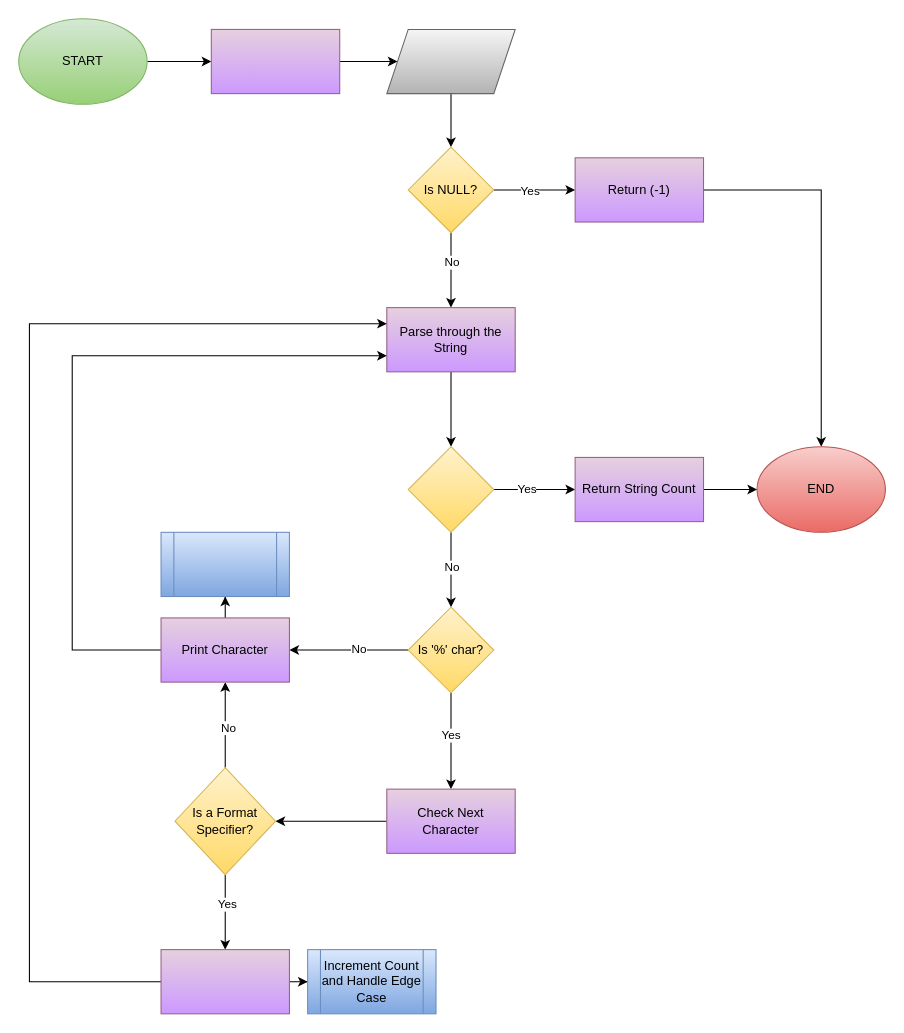
The diagram is 904 pixels wide and 1033 high, and some of its shapes have lost their labels. The shapes that lost their labels are listed below. From the top down, each one's box as (x1, y1, x2, y2) in pixels, then its label:
(210, 28, 340, 94): Declare Variables
(386, 28, 515, 94): String Input
(407, 446, 494, 532): Is '\0' char?
(160, 531, 289, 597): Increment Count
(160, 949, 289, 1014): Print Argument
